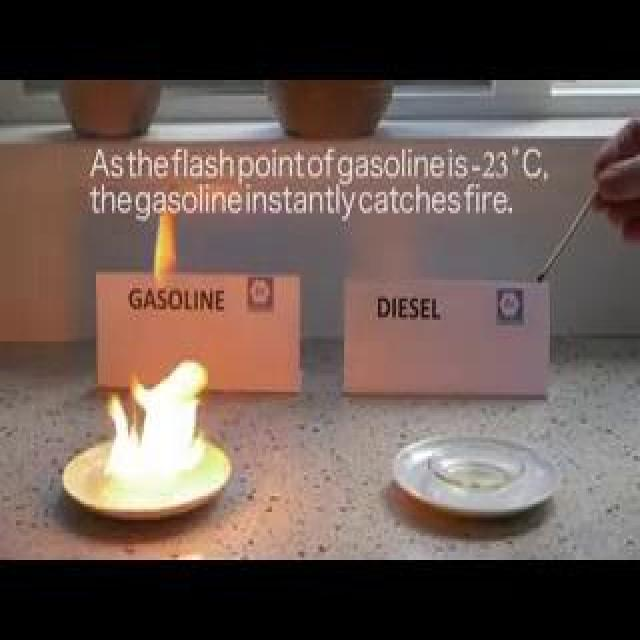Fire: (126, 202, 172, 398)
